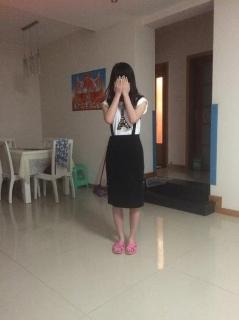sling: (106, 96, 145, 208)
vest dress: (103, 96, 149, 136)
